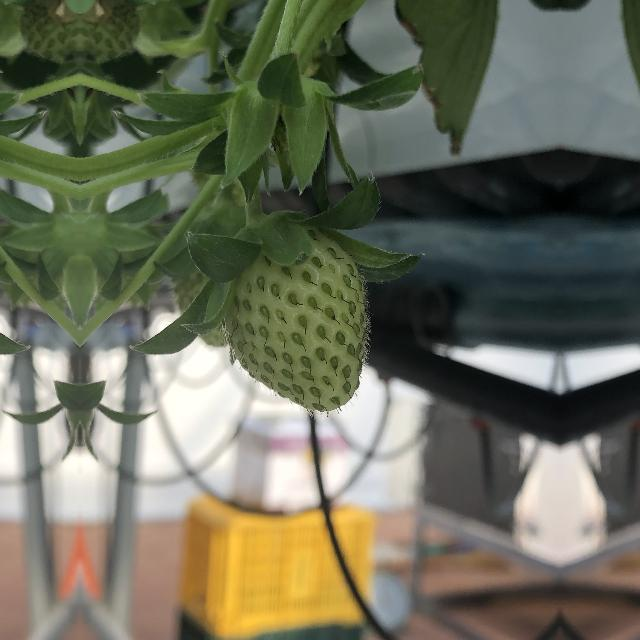Health_25: (218, 232, 380, 423)
